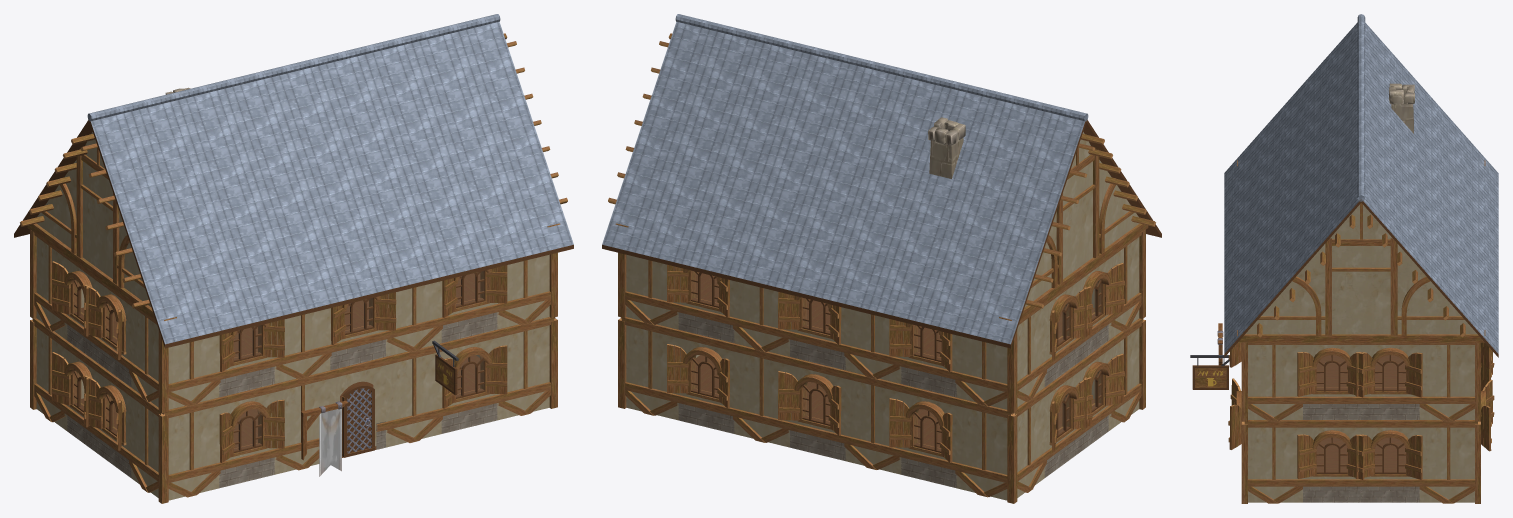
The model's file is inn.glb.
3 views of the same model, side by side, from view 1: azimuth 30°, elevation 25°; view 2: azimuth 150°, elevation 25°; view 3: azimuth 270°, elevation 25° (orthographic). The views are drawn at different scales.
Parts seen in each view (by area): view 1: Wall_Plaster_Straight.001; view 2: Wall_Plaster_Straight.001; view 3: Wall_Plaster_Straight.001.
Boxes of the visible parts, x1,y1,x2,y2 form: Wall_Plaster_Straight.001: (14, 14, 573, 503); Wall_Plaster_Straight.001: (602, 14, 1161, 503); Wall_Plaster_Straight.001: (1190, 14, 1498, 503).
Size of the model in its own units: 20 by 15.15 by 13.56.
27 materials, 25 textured.
